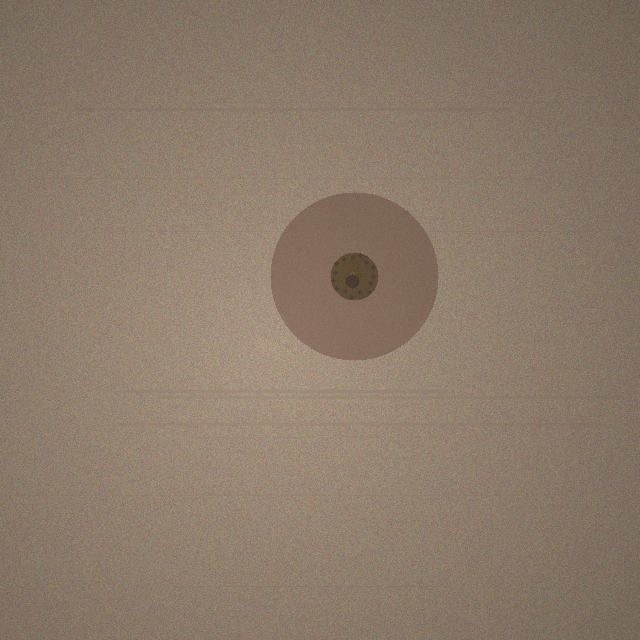cold_weld: (270, 192, 438, 360)
